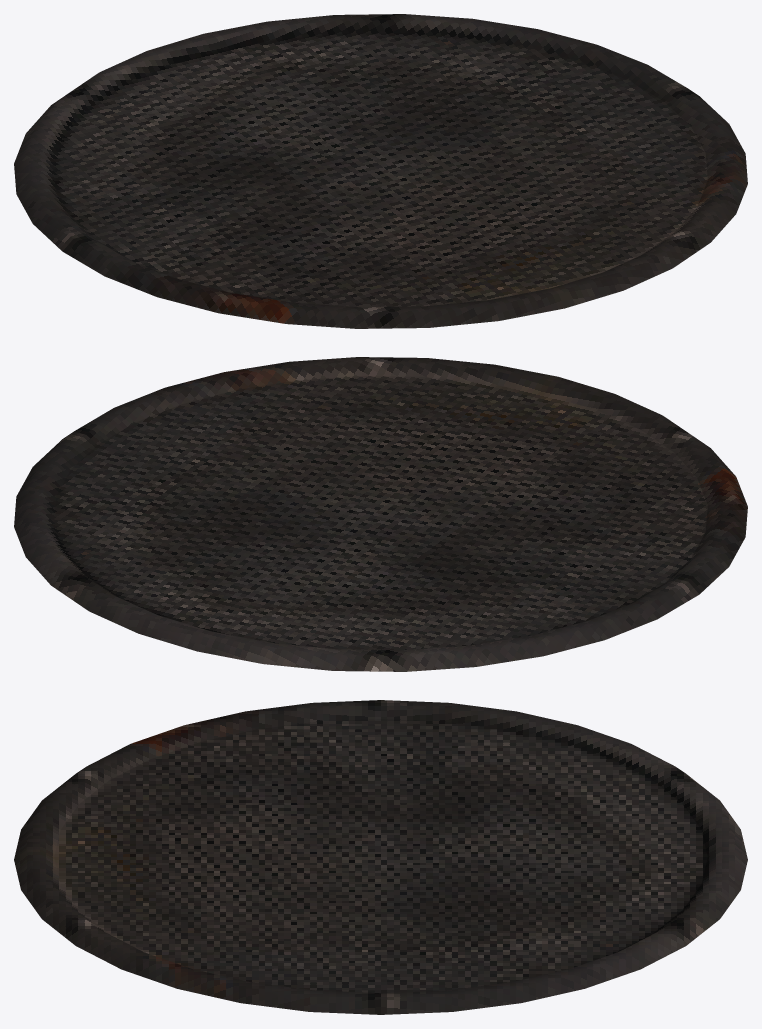
File: drain_cover_2.glb
The picture shows the model from 3 angles, top to bottom: view 1: azimuth 30°, elevation 25°; view 2: azimuth 150°, elevation 25°; view 3: azimuth 270°, elevation 25°; orthographic projection.
Visible parts, largest first — view 1: drain_cover_2; view 2: drain_cover_2; view 3: drain_cover_2.
Boxes of the visible parts, x1,y1,x2,y2 form: drain_cover_2: (14,14,747,328); drain_cover_2: (14,357,747,671); drain_cover_2: (14,700,747,1014).
Size of the model in its own units: 0.6 by 0.00915 by 0.6.
1 material, 1 textured.
